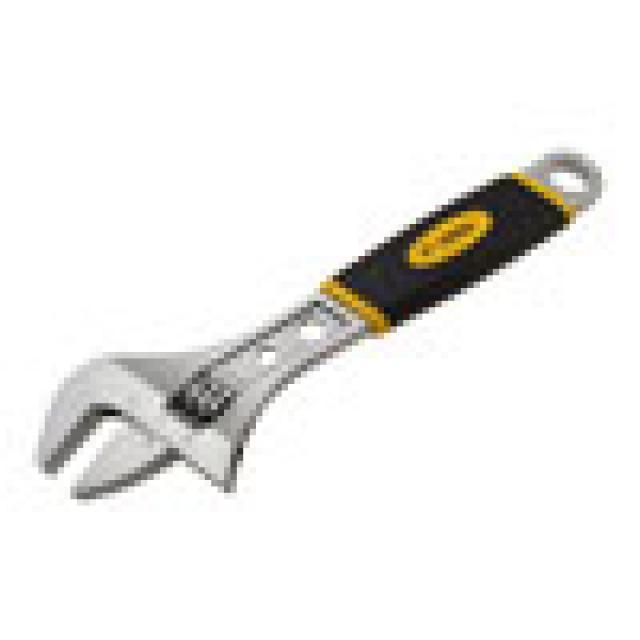wrench: (21, 130, 624, 535)
